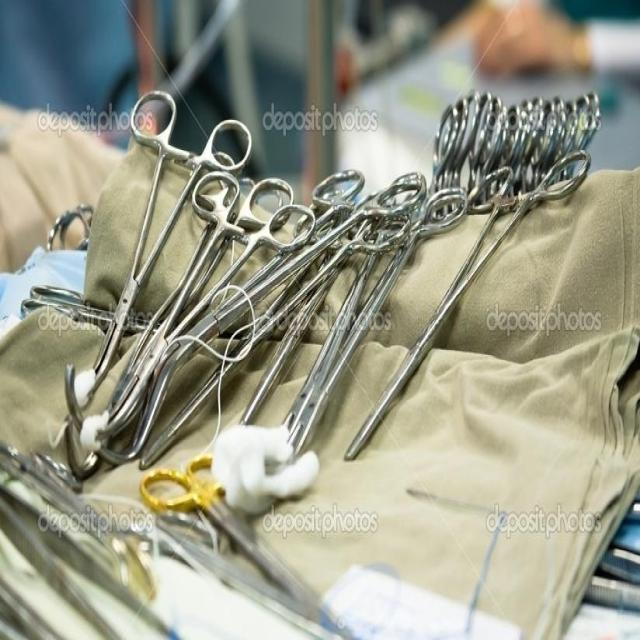Medical Waste: (3, 11, 631, 636)
Metal: (115, 81, 598, 419)
